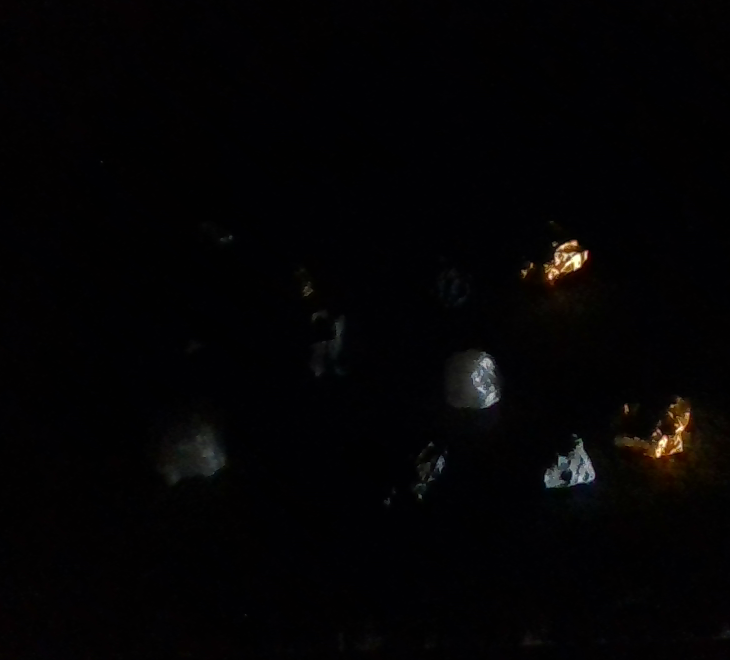anorthosite: (140, 394, 227, 486), (443, 346, 505, 409), (192, 220, 235, 253)
basalt: (341, 420, 445, 511), (410, 251, 471, 311), (105, 284, 143, 319)
metal: (499, 216, 587, 288), (609, 387, 692, 459), (268, 257, 315, 303)
regolith: (288, 306, 368, 378), (534, 433, 595, 490), (160, 322, 208, 361)
